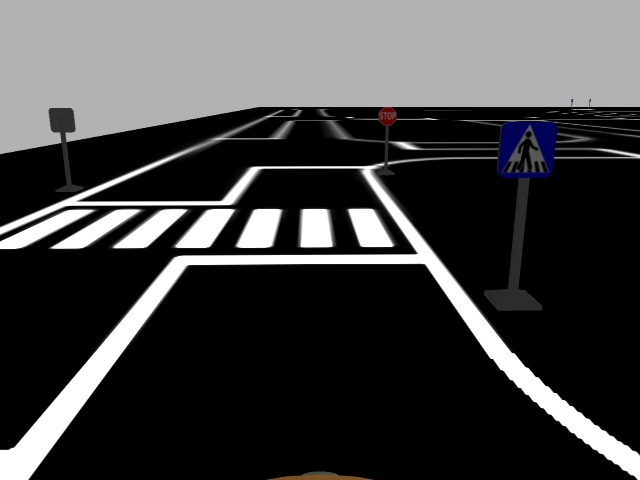crosswalk: (498, 118, 559, 181)
stop: (375, 106, 400, 127)
